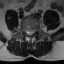CCS_normal: (29, 26, 31, 38)
LFS_normal: (34, 26, 36, 35)
LLS_normal: (31, 27, 34, 37)
RFS_normal: (24, 26, 26, 35)
RLS_normal: (26, 27, 29, 36)
